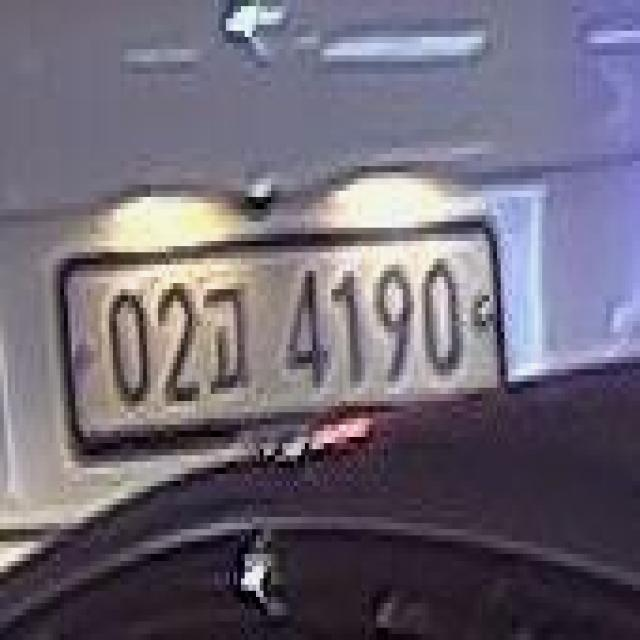illegal_plate: (55, 213, 510, 467)
